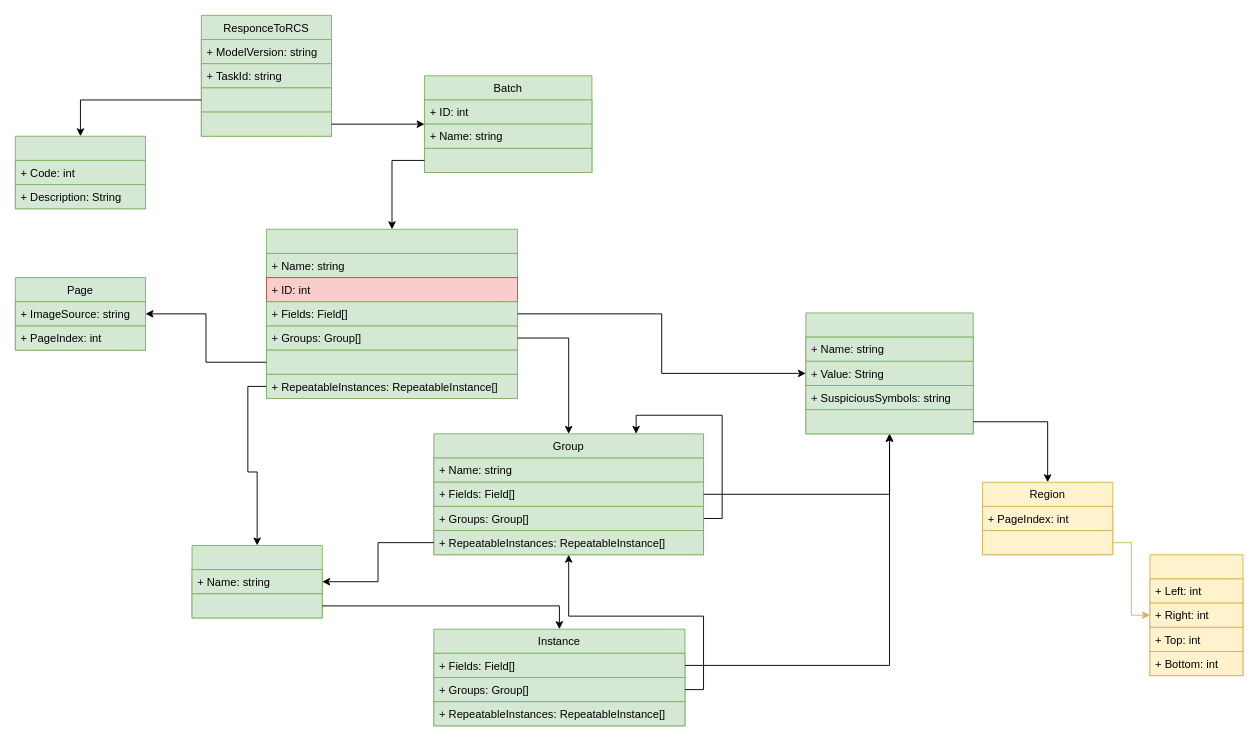
Some shapes in this 1258 by 741 pixel diagram are drawn without their labels. Here are the shapes that lost their labels. From the top down, the box of each, then its label:
(200, 87, 332, 112): + Status: Status
(200, 111, 332, 136): + Batch: Batch
(14, 135, 146, 209): Status
(424, 147, 592, 173): + Documents: Document[]
(266, 228, 518, 399): Document
(266, 349, 518, 374): + Pages: Page[]
(805, 312, 973, 434): Field
(805, 409, 973, 434): + Regions: Region[]
(982, 530, 1113, 555): + Rects: Rect[]
(191, 545, 322, 618): RepeatableInstance
(191, 593, 322, 618): + Instances: Instance[]
(1149, 554, 1243, 676): Rect
